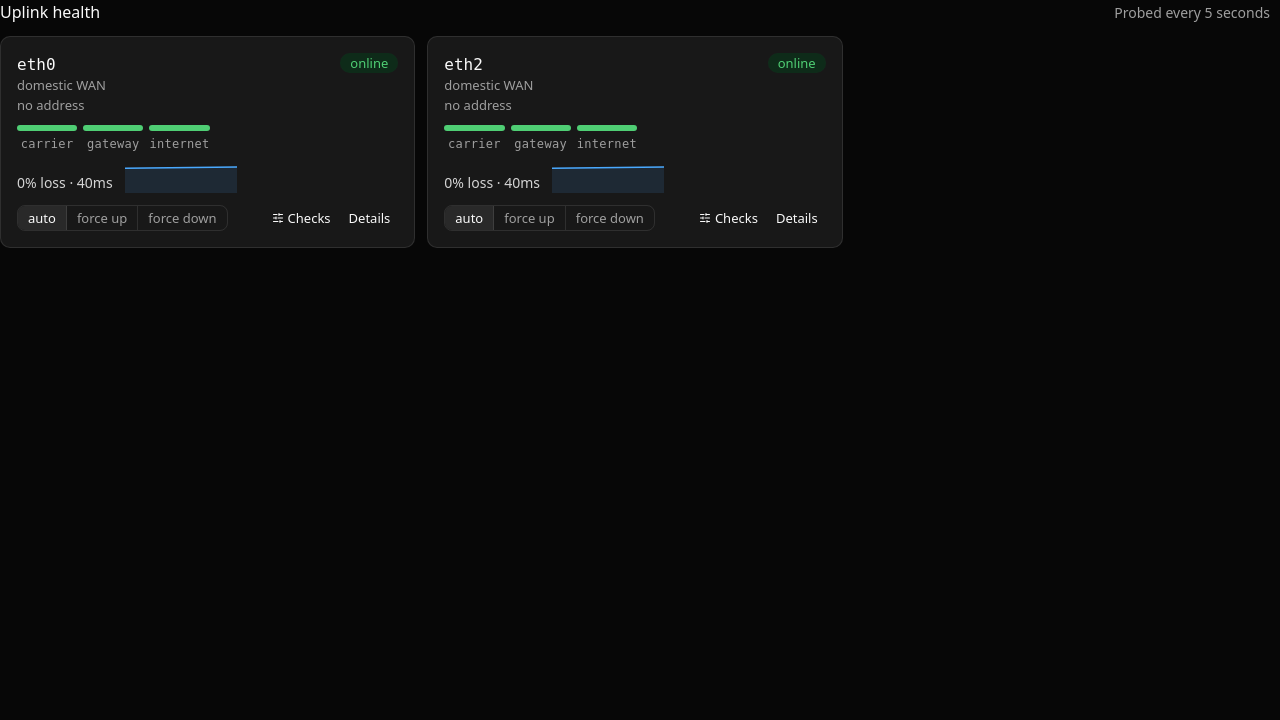
Test: HealthStrip › says what the override did › softens the force-down warning when another domestic line exists
Click the button "force down" below "eth0" at (182, 218), box [138,206,227,230]
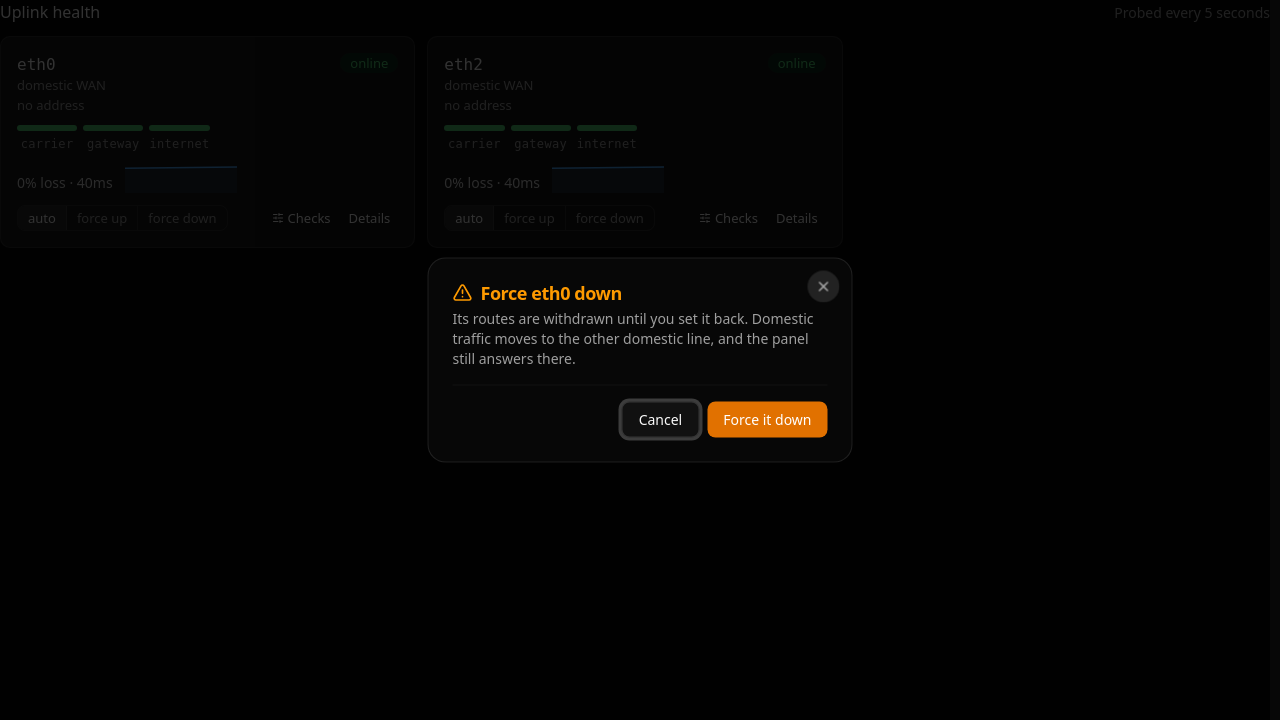
expect the text "moves to the other domestic line" is shown: met, box [452,308,814,368]
